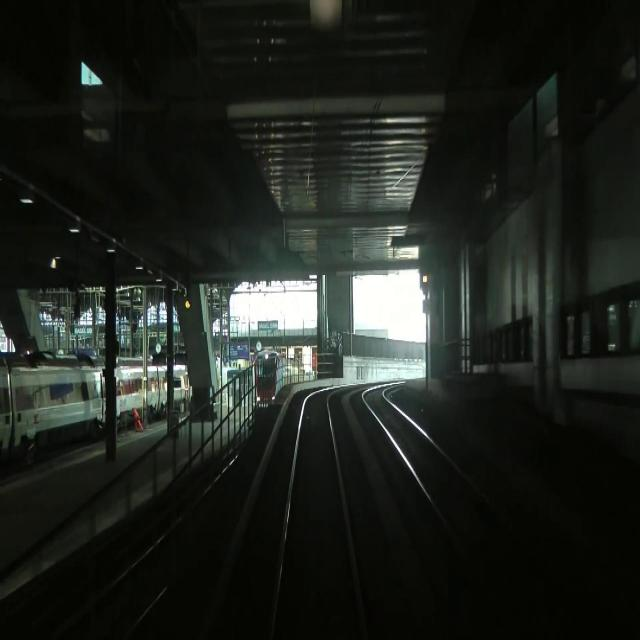rail-track: (365, 389, 588, 639), (61, 466, 233, 639), (274, 392, 365, 639)
